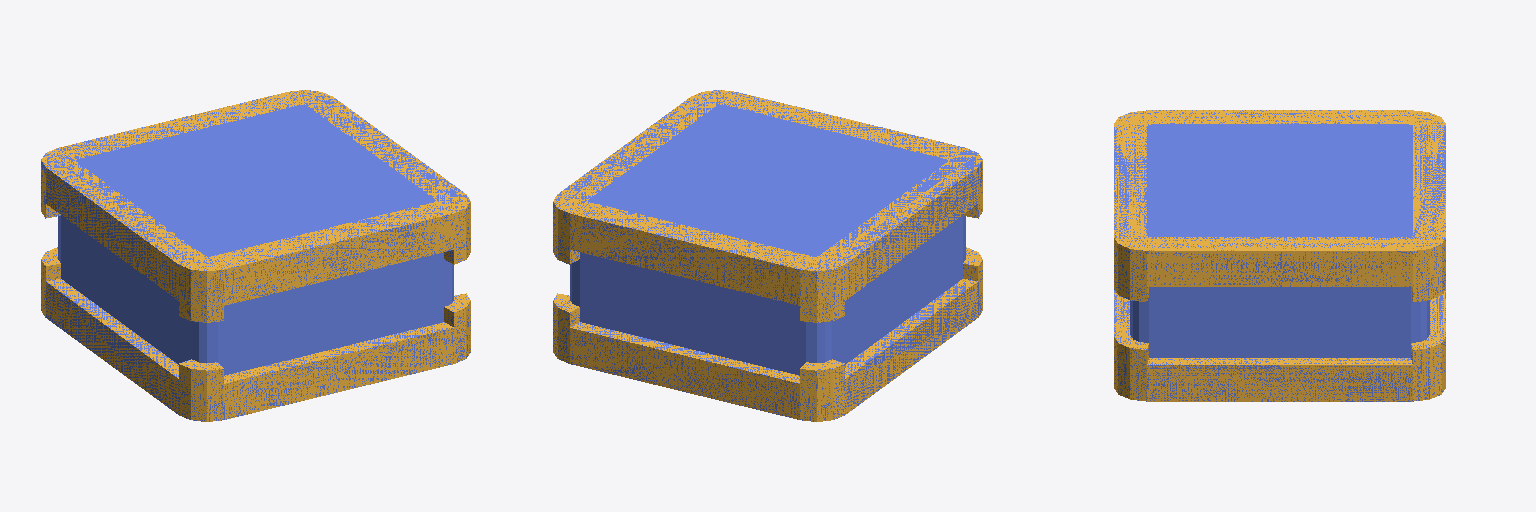
Rendered from blockMovingRed.obj.
3 renders of one model, left to right at view 1: azimuth 30°, elevation 25°; view 2: azimuth 150°, elevation 25°; view 3: azimuth 270°, elevation 25°, orthographic.
Visible parts, largest first — view 1: blockMovingRed; view 2: blockMovingRed; view 3: blockMovingRed.
Part boxes in pixels (left/top/right/bottom): blockMovingRed: left=41, top=90, right=470, bottom=421; blockMovingRed: left=553, top=90, right=982, bottom=421; blockMovingRed: left=1114, top=110, right=1445, bottom=401.
Size of the model in its own units: 1 by 0.5 by 1.